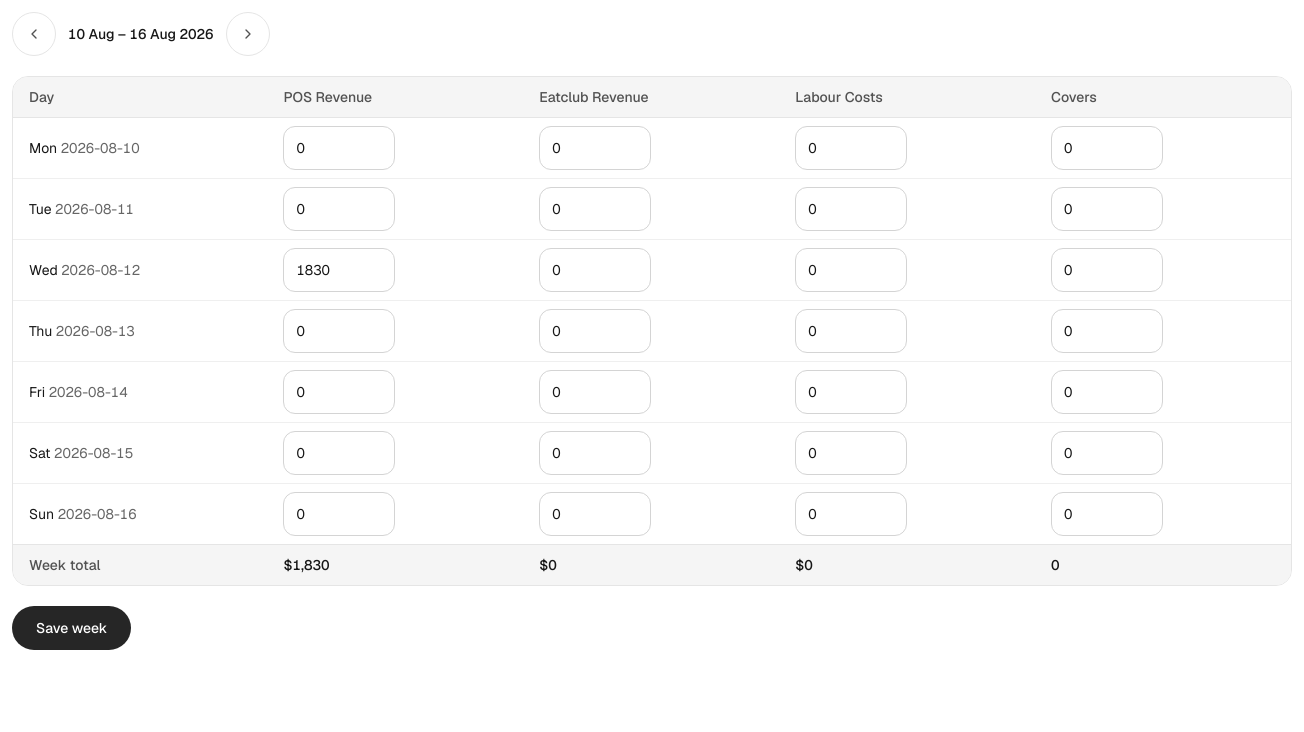
AS-022: an invalid entry › does not overwrite the table with a partially applied week
The image size is (1304, 732).
Replace the text in the number field named "POS Revenue 2026-08-12" with "2000" at point(339, 270), box [283, 248, 395, 292]
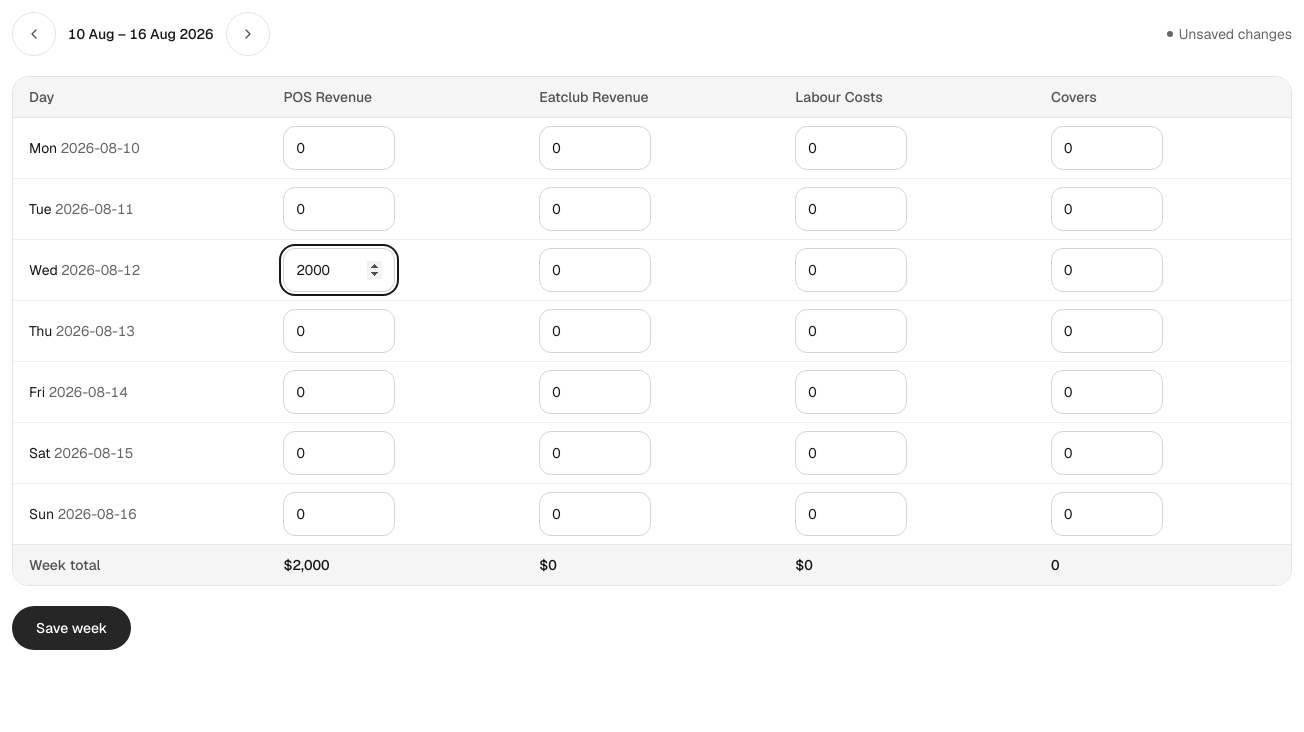
Click the button "Save week" at point(72, 628), box [12, 606, 131, 650]
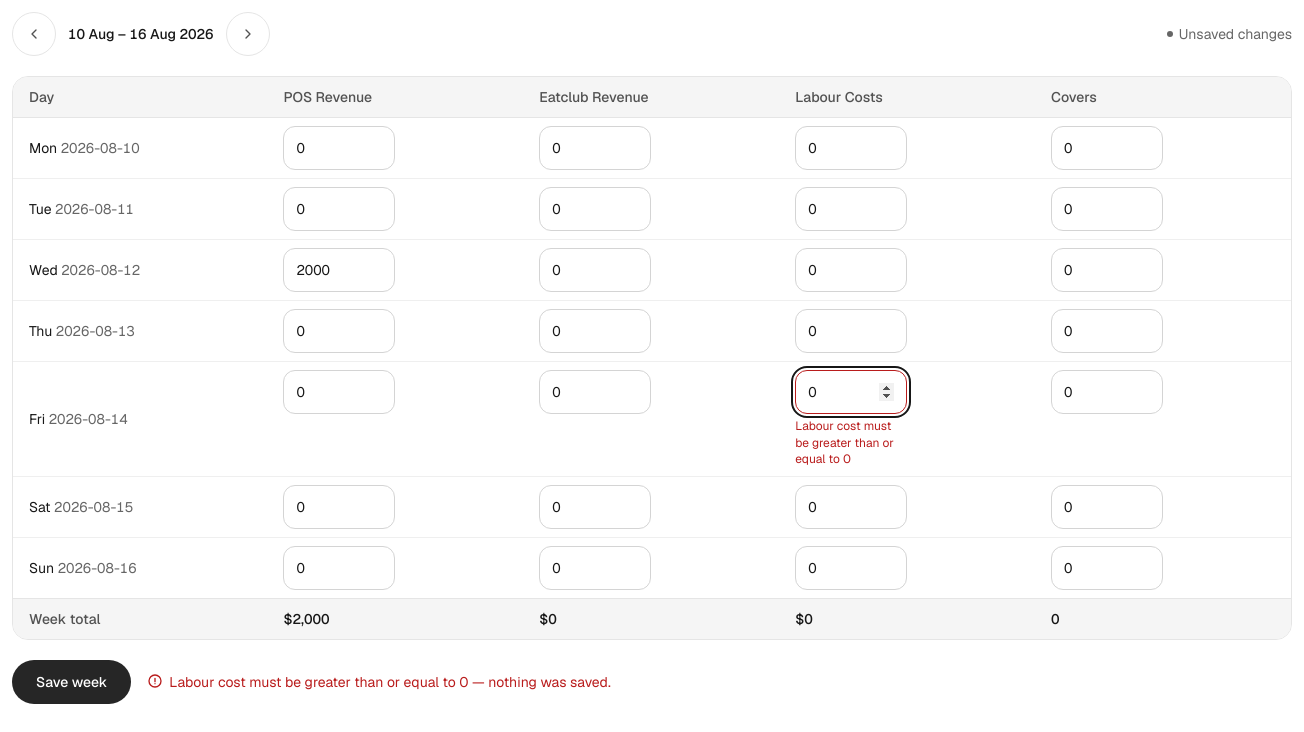
Expected: the message "Labour cost must be greater than or equal to 0 — nothing was saved." is shown, [147, 672, 611, 692]
